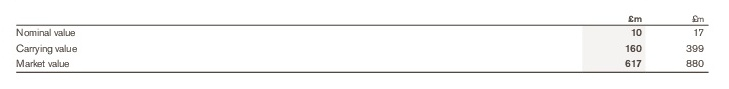table: (0, 0, 729, 89)
